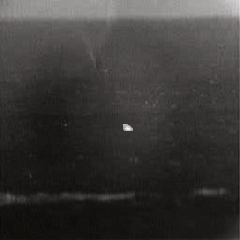Target: (121, 123, 133, 133)
